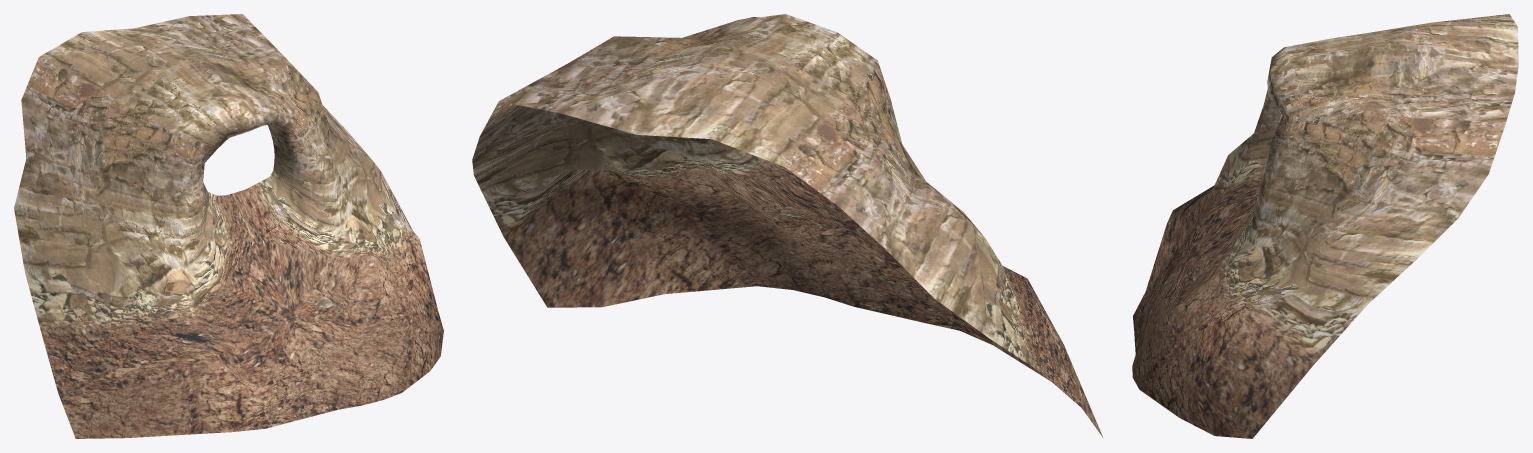
Rendered from thm_tato_cave_s02_r0_mesh_l2.fbx.
3 renders of one model, left to right at view 1: azimuth 30°, elevation 25°; view 2: azimuth 150°, elevation 25°; view 3: azimuth 270°, elevation 25°, orthographic. The views are drawn at different scales.
Parts seen in each view (by area): view 1: mesh_node; view 2: mesh_node; view 3: mesh_node.
Part boxes in pixels (x1,y1,x2,y2): mesh_node: [14, 14, 443, 438]; mesh_node: [472, 14, 1102, 437]; mesh_node: [1132, 14, 1518, 438].
Size of the model in its own units: 48.32 by 34.16 by 39.34.
